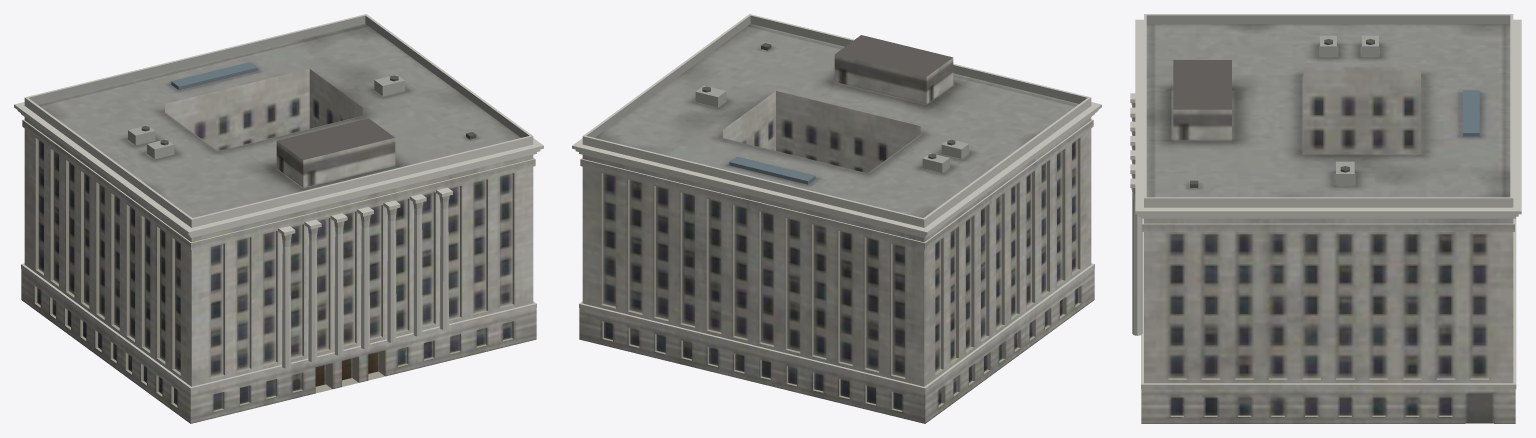
File: dc_fed_white_b.glb
3 views of the same model, side by side, from view 1: azimuth 30°, elevation 25°; view 2: azimuth 150°, elevation 25°; view 3: azimuth 270°, elevation 25° (orthographic). The views are drawn at different scales.
Parts seen in each view (by area): view 1: dc_fed_white_b; view 2: dc_fed_white_b; view 3: dc_fed_white_b.
Part boxes in pixels (box(x1,y1,x2,y2)): dc_fed_white_b: box(14, 14, 543, 423); dc_fed_white_b: box(572, 14, 1101, 423); dc_fed_white_b: box(1130, 14, 1521, 423).
Size of the model in its own units: 54 by 32.3 by 46.61.
1 material, 1 textured.
